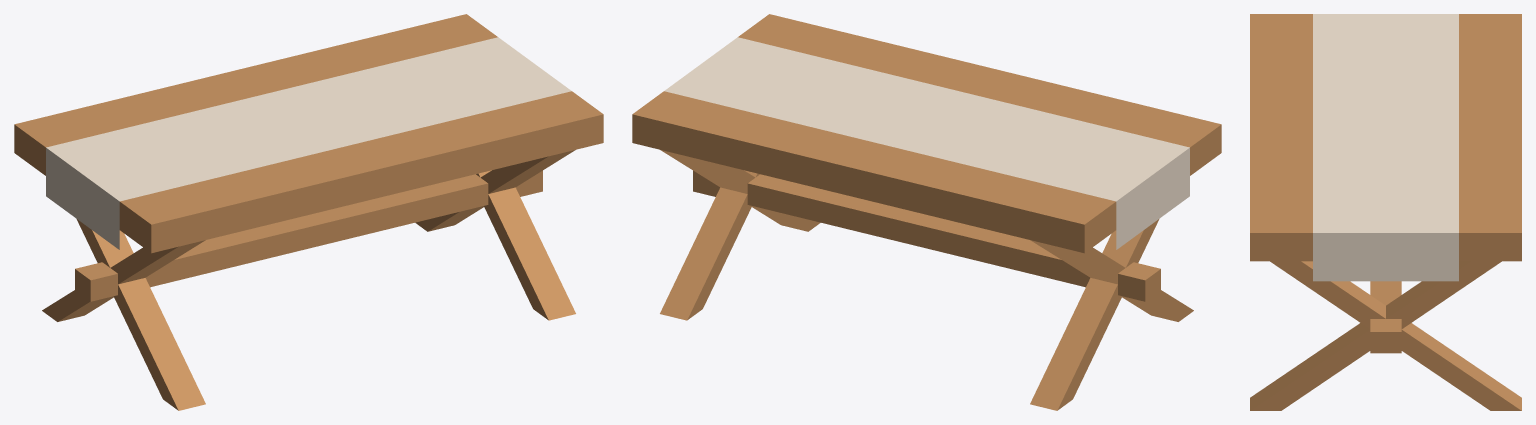
File: kitTableCrossCloth.glb
3 renders of one model, left to right at view 1: azimuth 30°, elevation 25°; view 2: azimuth 150°, elevation 25°; view 3: azimuth 270°, elevation 25°, orthographic.
Parts seen in each view (by area): view 1: kitTableCrossCloth_wood, kitTableCrossCloth_fabric; view 2: kitTableCrossCloth_wood, kitTableCrossCloth_fabric; view 3: kitTableCrossCloth_wood, kitTableCrossCloth_fabric.
Part boxes in pixels (bbox=[...]): kitTableCrossCloth_wood: bbox=[14, 14, 603, 410]; kitTableCrossCloth_fabric: bbox=[46, 37, 571, 249]; kitTableCrossCloth_wood: bbox=[632, 14, 1221, 410]; kitTableCrossCloth_fabric: bbox=[664, 37, 1189, 249]; kitTableCrossCloth_wood: bbox=[1250, 14, 1521, 410]; kitTableCrossCloth_fabric: bbox=[1313, 14, 1458, 281].
Size of the model in its own units: 1.7 by 0.6948 by 0.8947.
